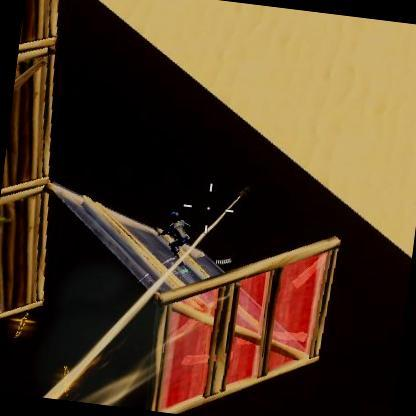person: (160, 209, 190, 274)
